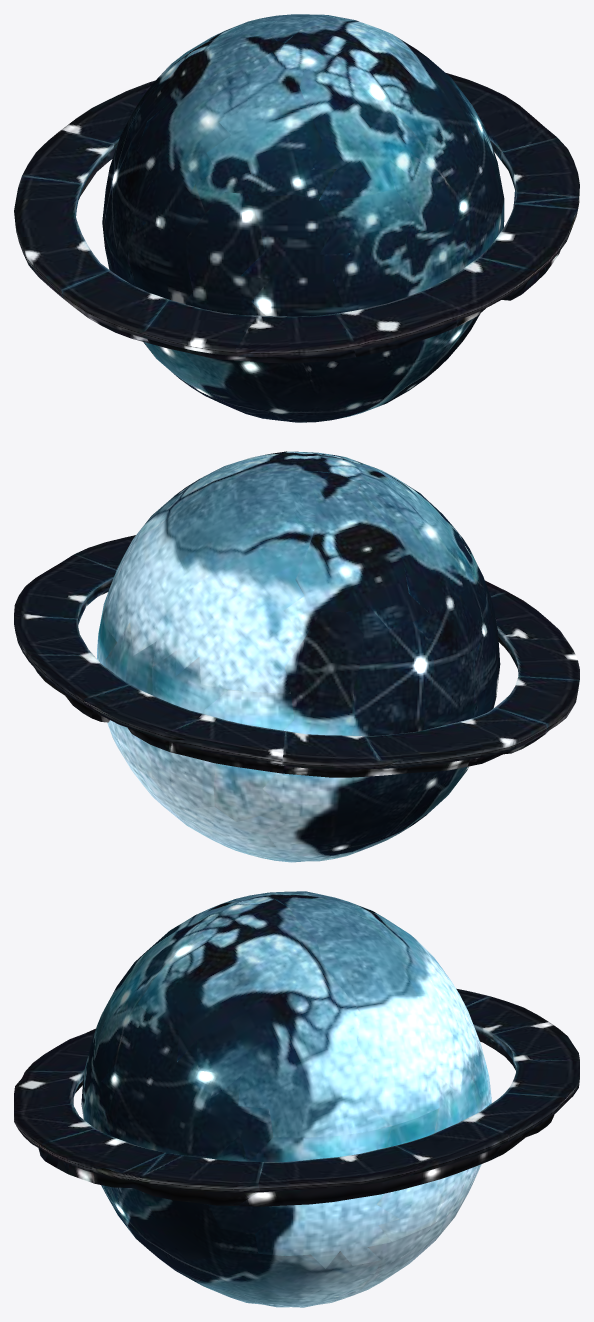
Rendered from 019fde80-3c0a-71e0-bf8e-ebe4141c9272.glb.
3 views of the same model, one above another, from view 1: azimuth 30°, elevation 25°; view 2: azimuth 150°, elevation 25°; view 3: azimuth 270°, elevation 25° (orthographic).
Visible parts, largest first — view 1: mesh_node; view 2: mesh_node; view 3: mesh_node.
Boxes of the visible parts, left/top/right/bottom form: mesh_node: left=14, top=14, right=579, bottom=422; mesh_node: left=14, top=451, right=579, bottom=862; mesh_node: left=14, top=891, right=579, bottom=1307.
Bounding box in the file's own units: 1 × 0.7402 × 1.
1 material, 1 textured.
